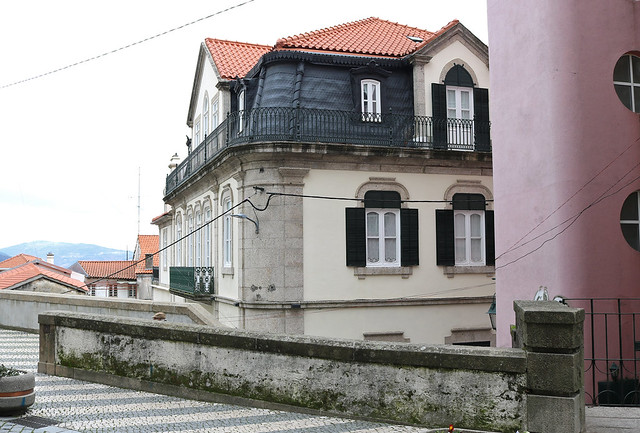medium: (144, 12, 498, 351)
